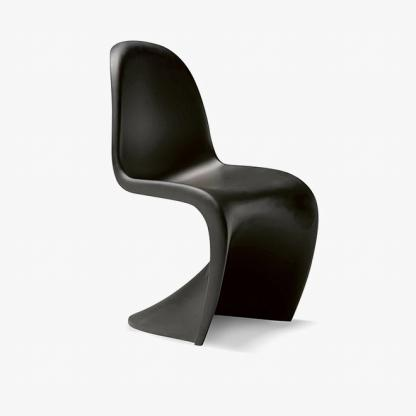chair: (98, 36, 328, 351)
